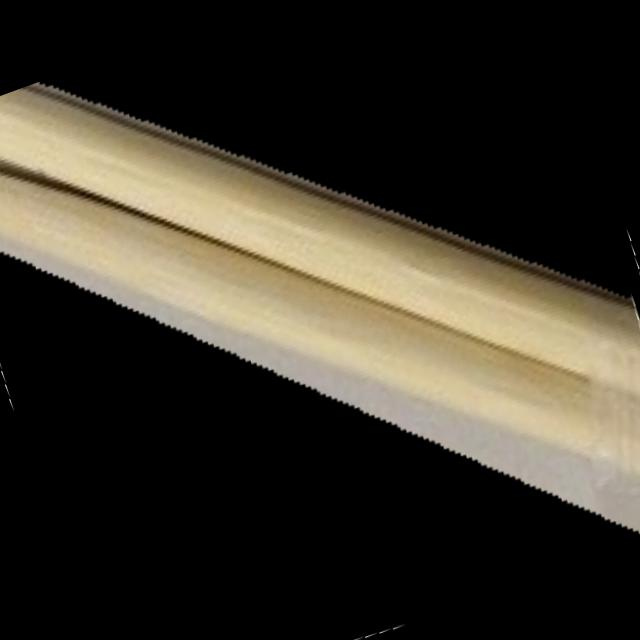others: (0, 83, 640, 530)
